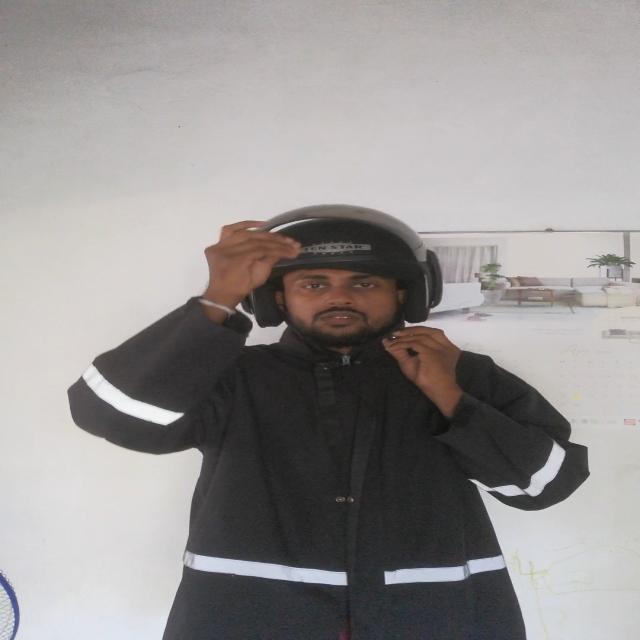Helmet_Wearer: (195, 189, 452, 374)
Jacket_Wearer: (68, 295, 587, 640)
Person: (65, 204, 594, 640)
